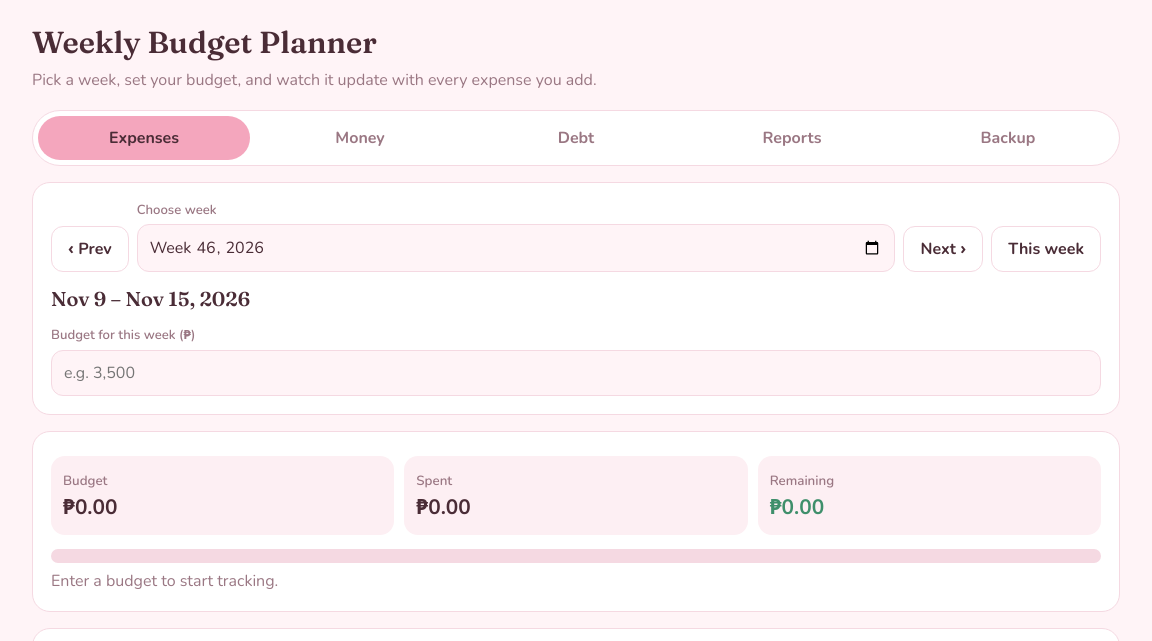
Scenario: new features › offers install instructions
The image size is (1152, 641).
Click the tab "Backup": click(1008, 138) [902,116,1114,160]
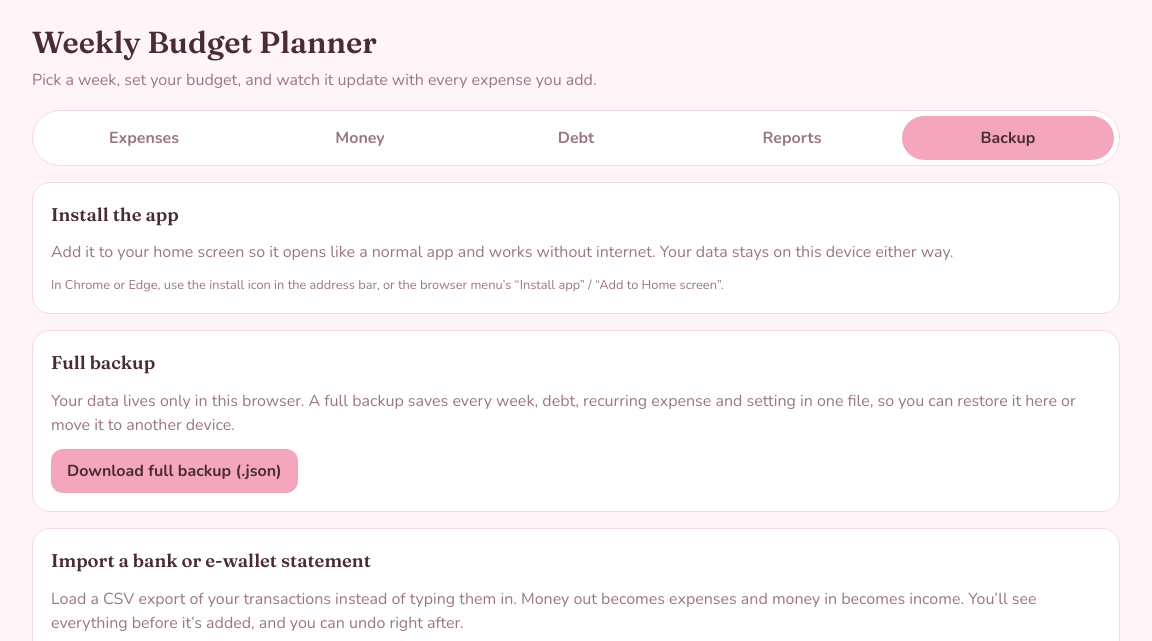
Expected: the text "install icon in the address bar" is shown, [51,276,724,294]
